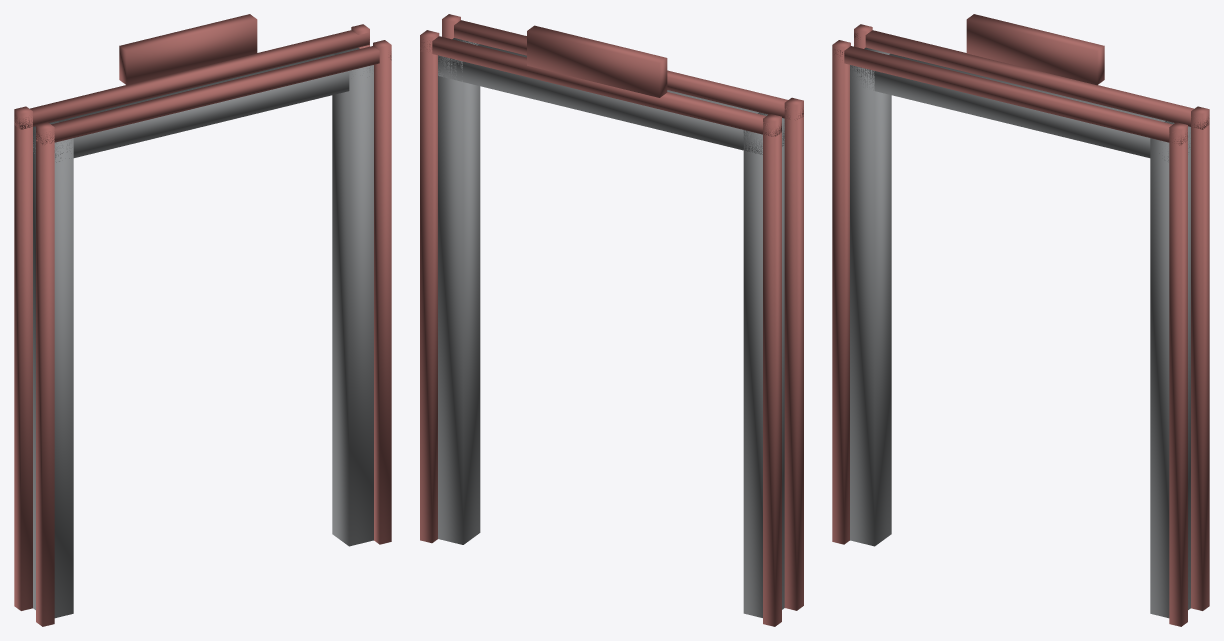
File: doorway_emergency_exit_w152_h240_d16.glb
3 views of the same model, side by side, from view 1: azimuth 30°, elevation 25°; view 2: azimuth 150°, elevation 25°; view 3: azimuth 330°, elevation 25° (orthographic).
Parts seen in each view (by area): view 1: world; view 2: world; view 3: world.
Boxes of the visible parts, x1,y1,x2,y2 form: world: [14, 14, 391, 626]; world: [420, 14, 803, 626]; world: [832, 14, 1209, 626].
Bounding box in the file's own units: 1.92 × 2.8 × 0.3108.
